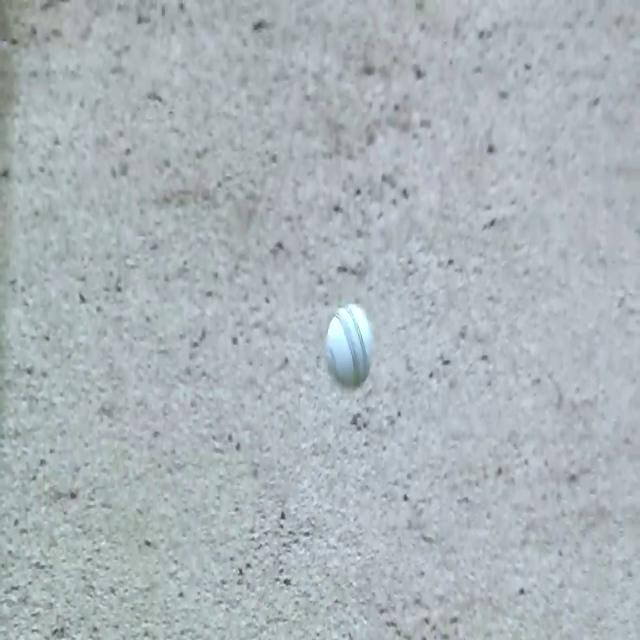ball: (322, 300, 382, 400)
